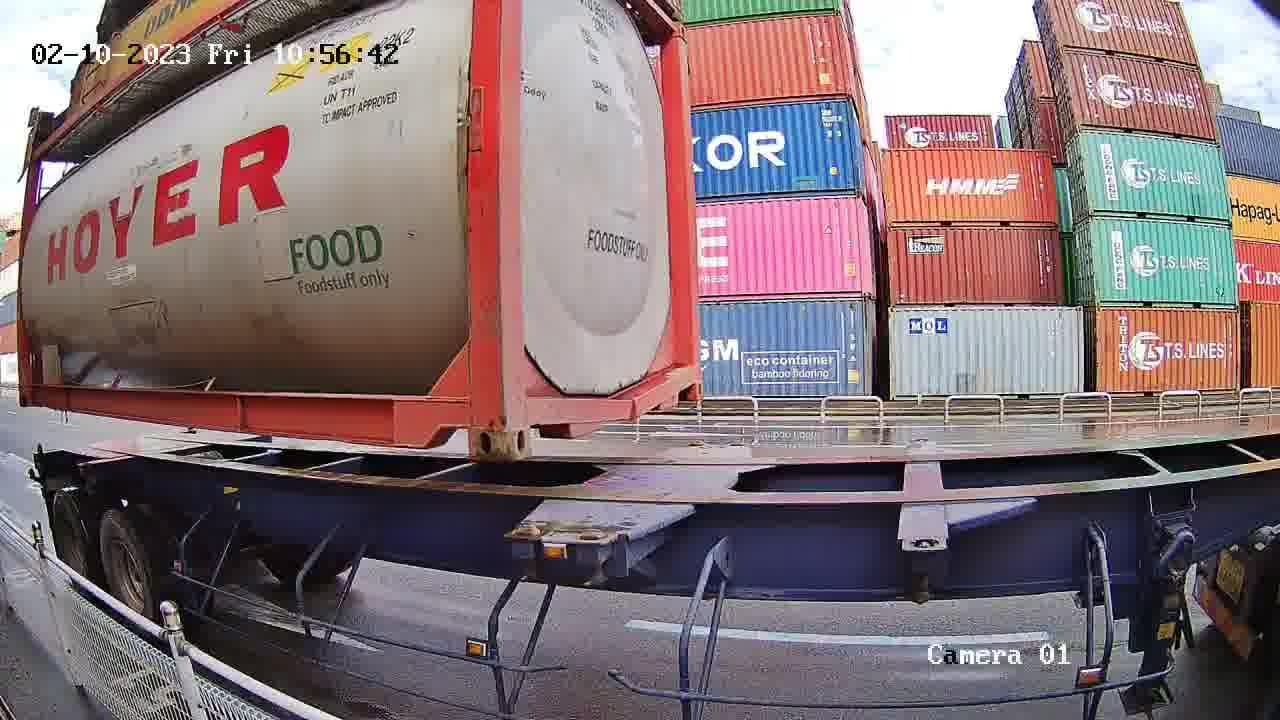Chassis: (510, 444, 705, 537), (575, 444, 749, 542)
Cone: (576, 529, 617, 588), (510, 524, 549, 582)
Hole_L: (506, 399, 557, 462)
Hole_R: (441, 400, 505, 460), (677, 362, 702, 404)
Tire: (101, 515, 154, 623), (51, 493, 92, 591)
